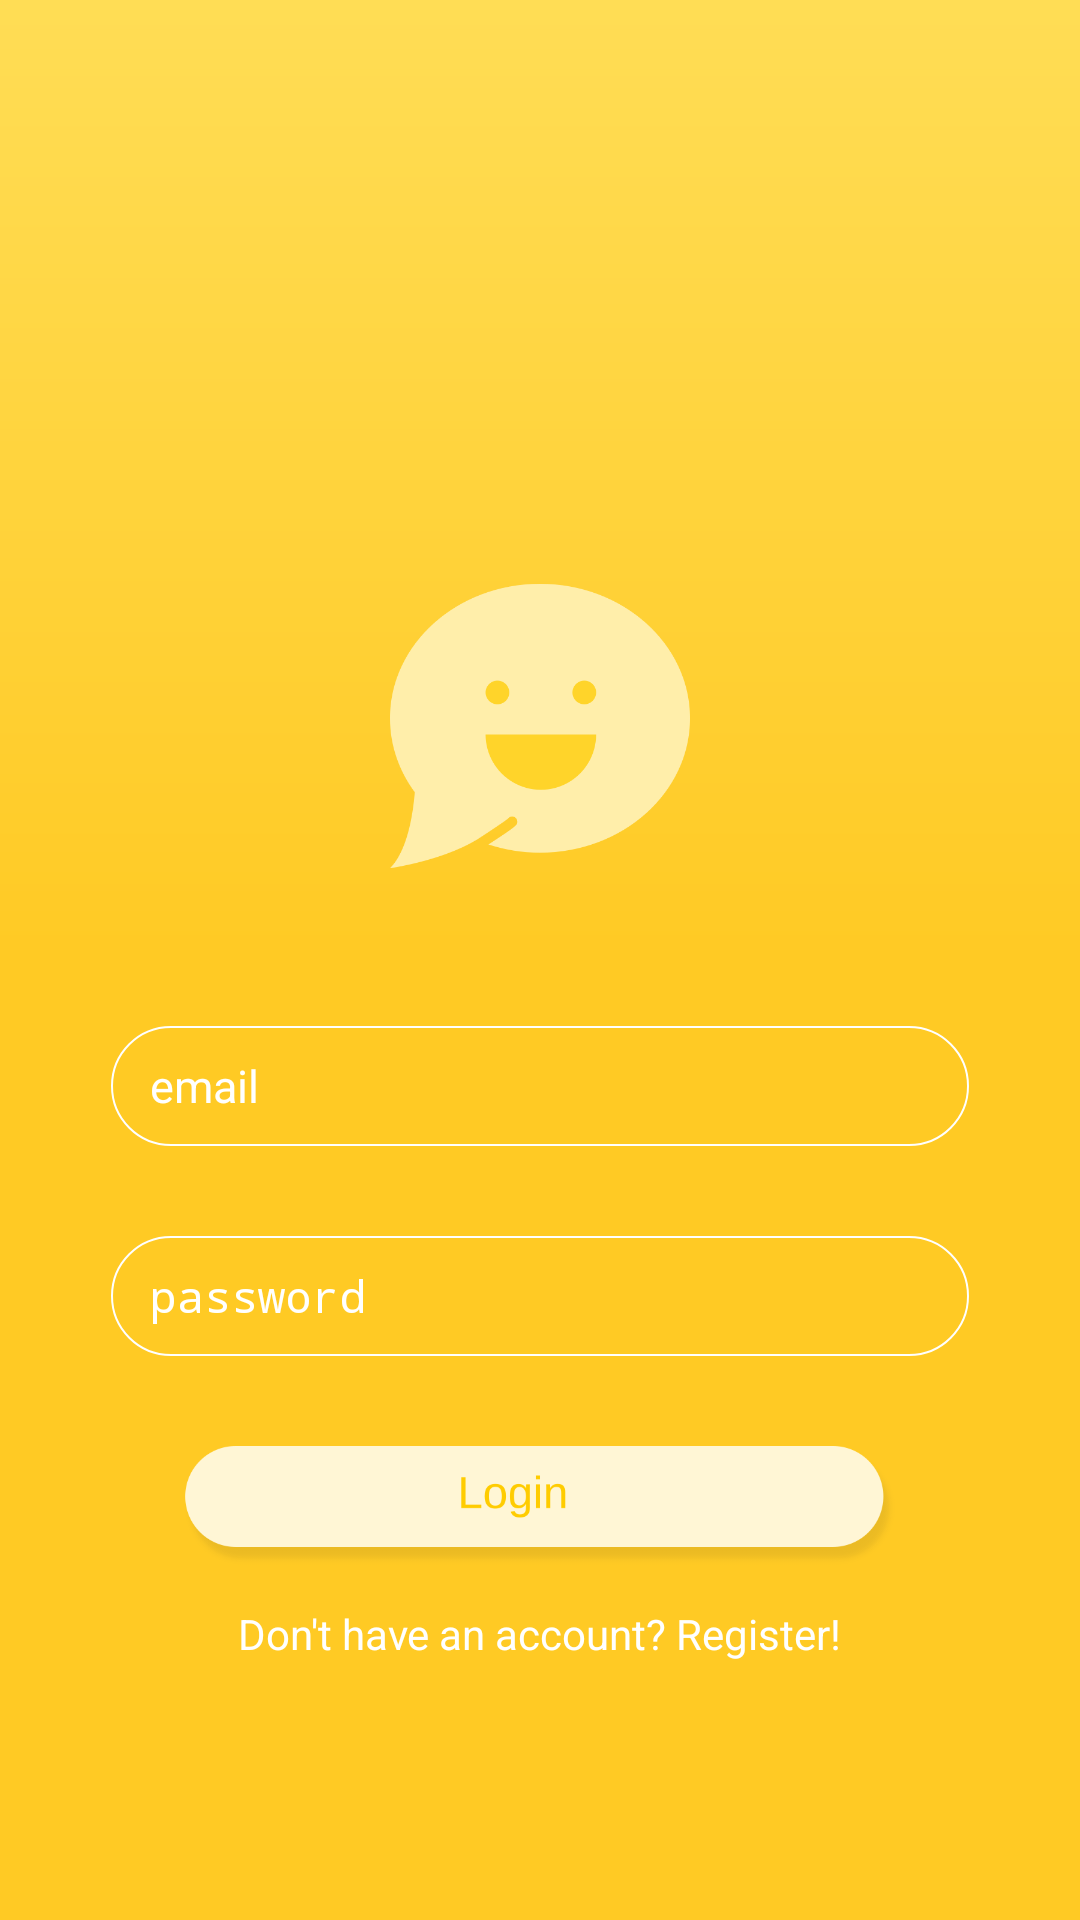

Named icons in this screenshot (1080px×1920px) and their bounding boxes, bbox=(x1, y1, x2, y2):
smilleyface: bbox=(390, 584, 690, 868)
